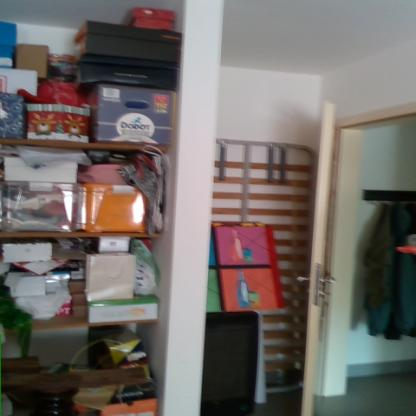semi: (294, 92, 415, 415)
